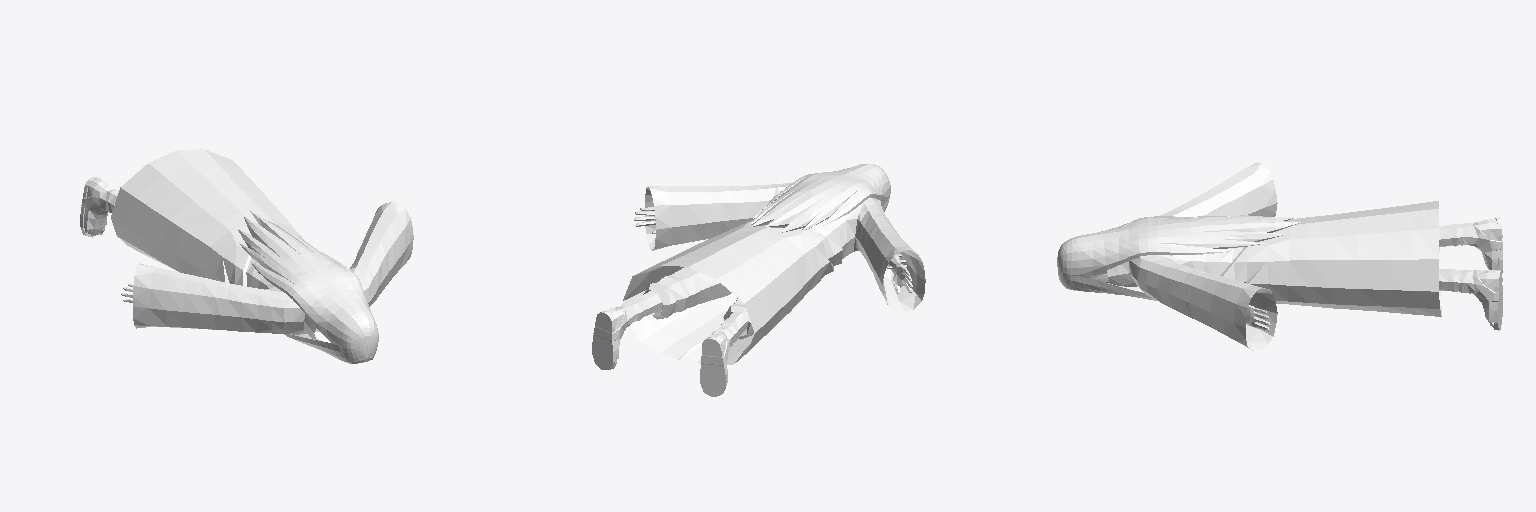
File: pain.obj
3 renders of one model, left to right at view 1: azimuth 30°, elevation 25°; view 2: azimuth 150°, elevation 25°; view 3: azimuth 270°, elevation 25°, orthographic.
Parts seen in each view (by area): view 1: _2ped00t0_body_, _2ped00t0_kami_; view 2: _2ped00t0_body_, _2ped00t0_kami_; view 3: _2ped00t0_body_, _2ped00t0_kami_.
Boxes of the visible parts, x1=… form: _2ped00t0_body_: x1=80, y1=149, x2=413, y2=342; _2ped00t0_kami_: x1=238, y1=211, x2=378, y2=363; _2ped00t0_body_: x1=592, y1=183, x2=925, y2=396; _2ped00t0_kami_: x1=750, y1=164, x2=890, y2=232; _2ped00t0_body_: x1=1107, y1=162, x2=1502, y2=350; _2ped00t0_kami_: x1=1057, y1=215, x2=1300, y2=300.
Size of the model in its own units: 144 by 46.54 by 198.